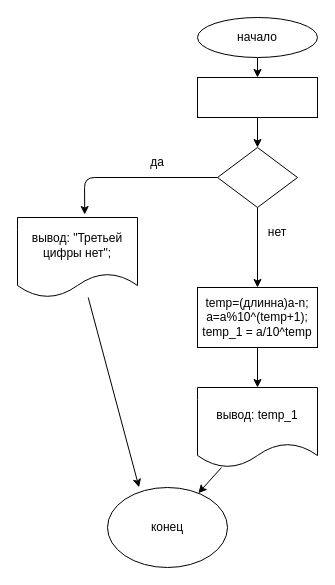
This 335x585 diagram has some shape labels left out. Here are the shapes that lost their labels. From the top down, the centre of each, then its label:
point (257, 97): a; n=3;// необходимая цифра
point (257, 177): Длинна a<n
